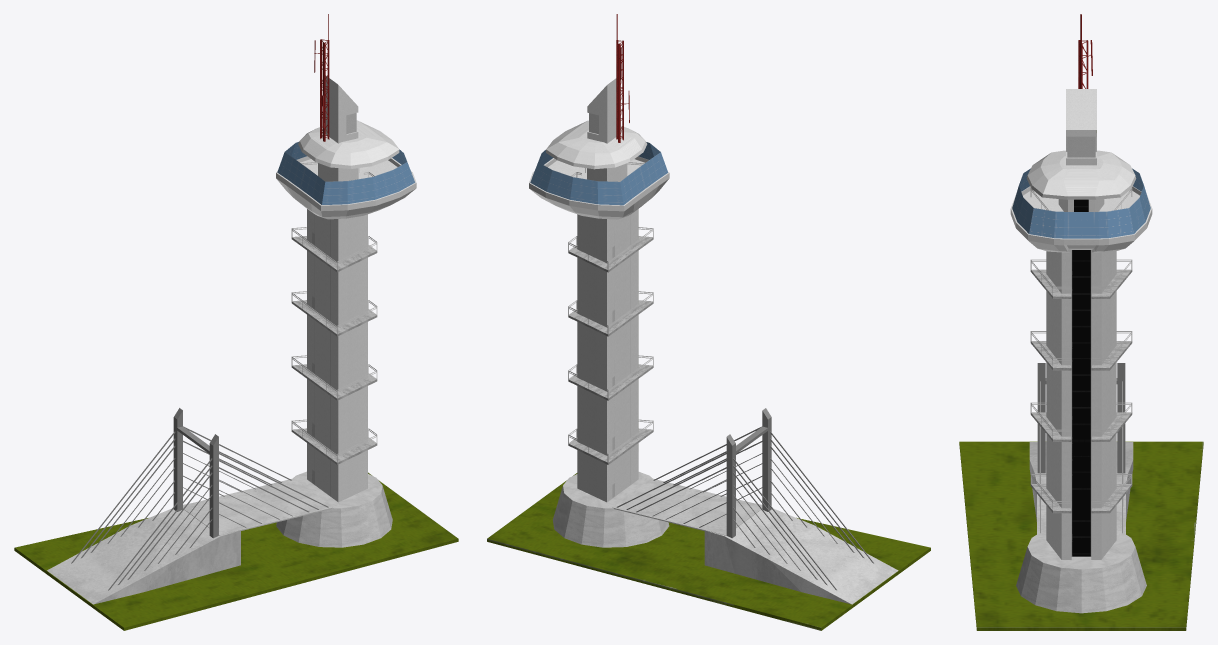
The model's file is miranteLOD0.fbx.
3 views of the same model, side by side, from view 1: azimuth 30°, elevation 25°; view 2: azimuth 150°, elevation 25°; view 3: azimuth 270°, elevation 25° (orthographic). The views are drawn at different scales.
Visible parts, largest first — view 1: miranteLOD0; view 2: miranteLOD0; view 3: miranteLOD0.
Boxes of the visible parts, box(x1,y1,x2,y2) form: miranteLOD0: box(14, 14, 458, 630); miranteLOD0: box(487, 14, 930, 630); miranteLOD0: box(959, 14, 1203, 630).
Size of the model in its own units: 6666 by 9557 by 3698.
